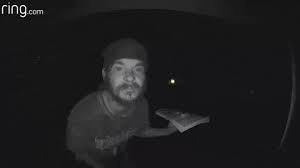person: (183, 56, 277, 145)
